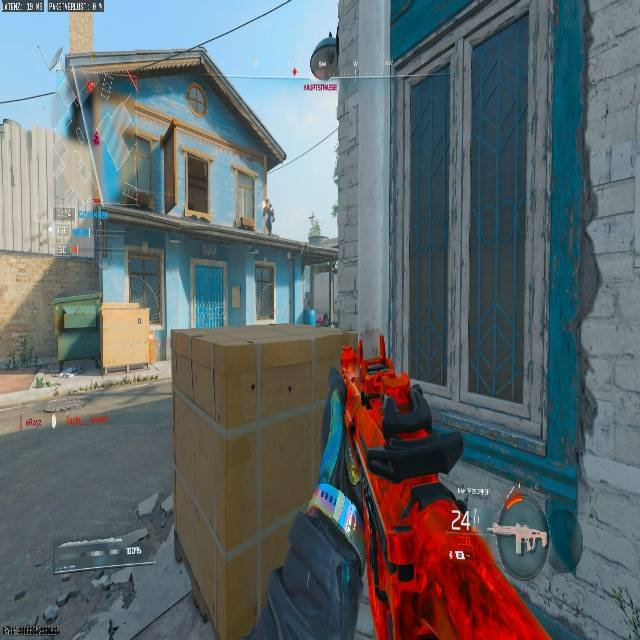player: (262, 198, 274, 234), (314, 311, 329, 327)
